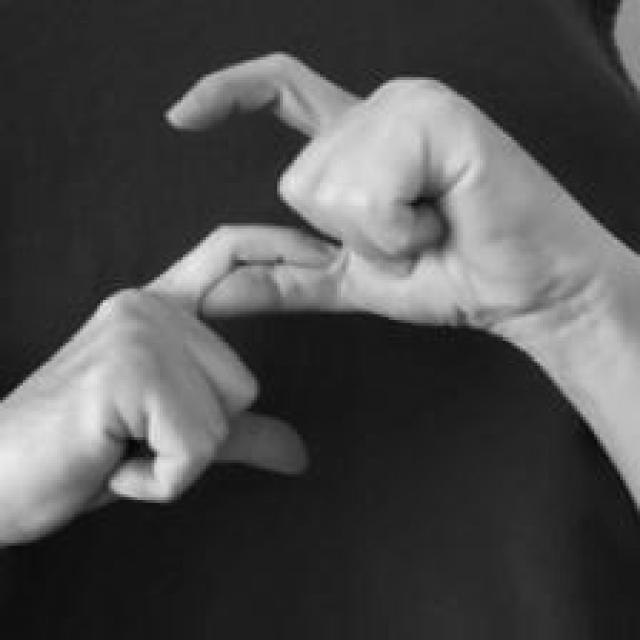S: (1, 49, 640, 546)
